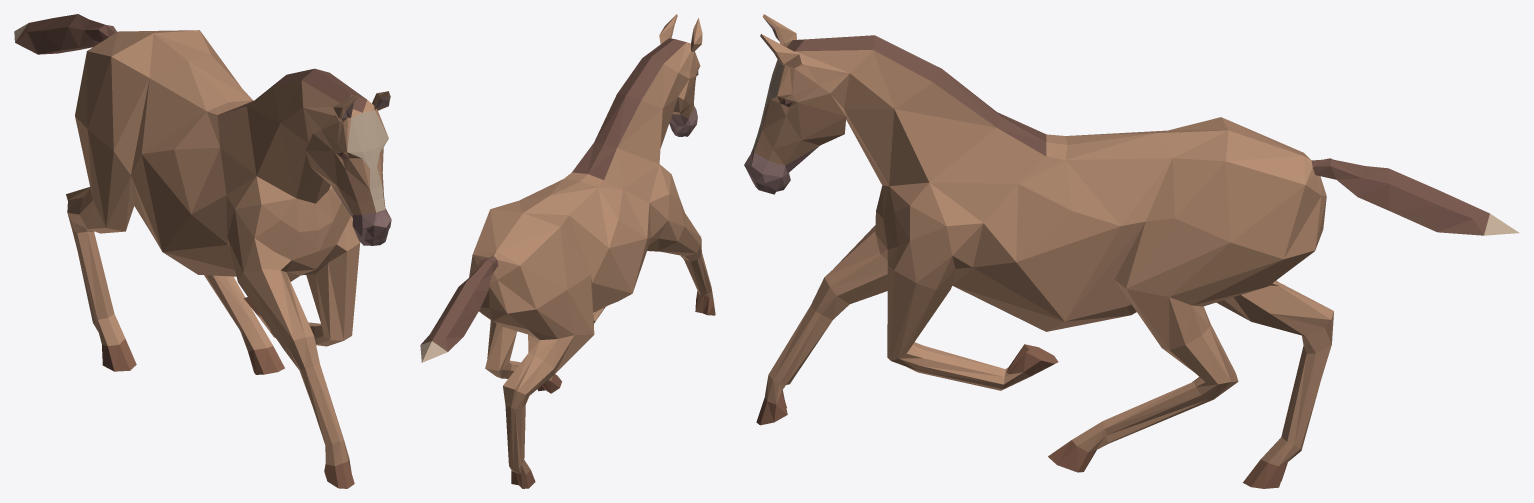
Rendered from Horse.glb.
3 renders of one model, left to right at view 1: azimuth 30°, elevation 25°; view 2: azimuth 150°, elevation 25°; view 3: azimuth 270°, elevation 25°, orthographic. The views are drawn at different scales.
Parts seen in each view (by area): view 1: mesh_0; view 2: mesh_0; view 3: mesh_0.
Boxes of the visible parts, <box> form: mesh_0: <box>14,14,391,488</box>; mesh_0: <box>420,14,715,488</box>; mesh_0: <box>744,14,1519,488</box>.
Size of the model in its own units: 63.5 by 187 by 278.
